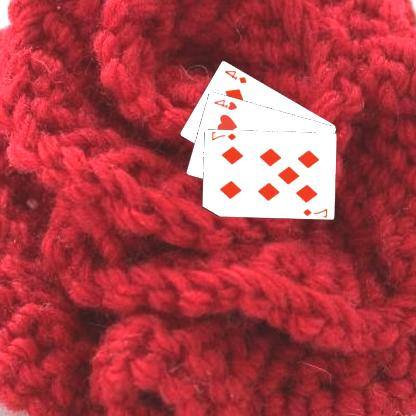4D: (224, 67, 249, 85)
4H: (213, 96, 240, 112)
7D: (210, 130, 239, 142), (302, 206, 330, 217)
